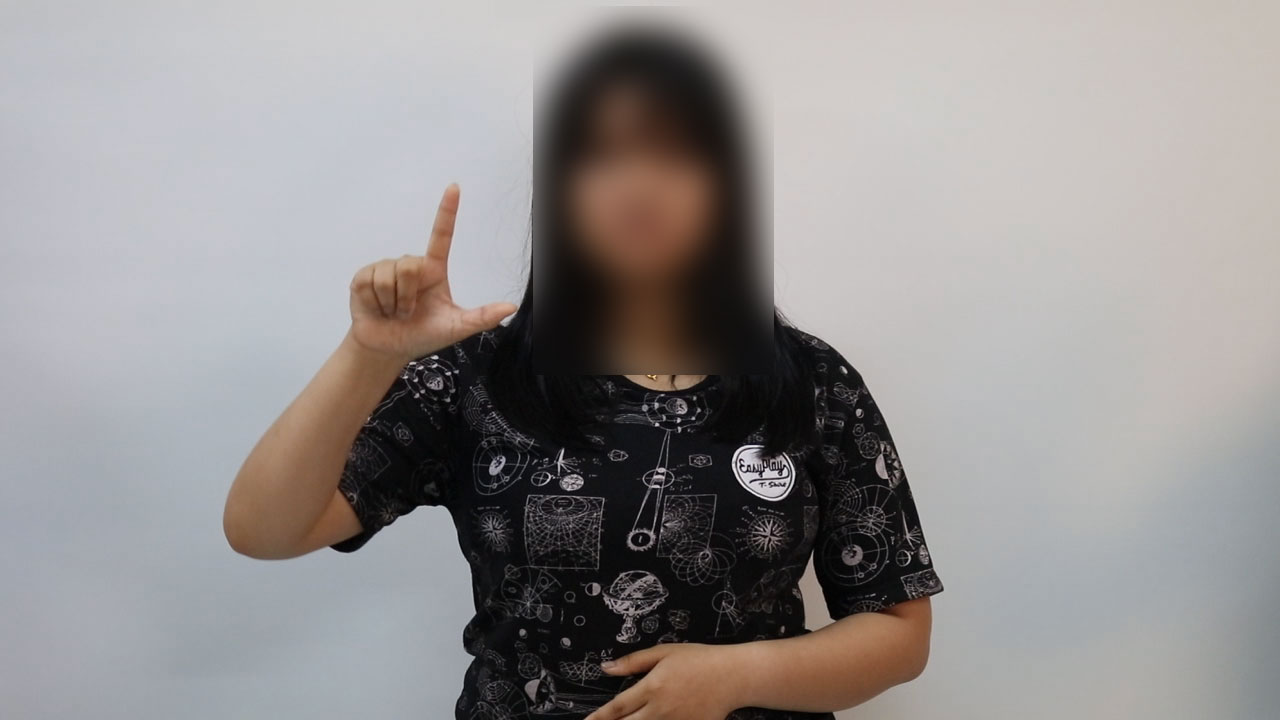lor: (334, 173, 526, 368)
